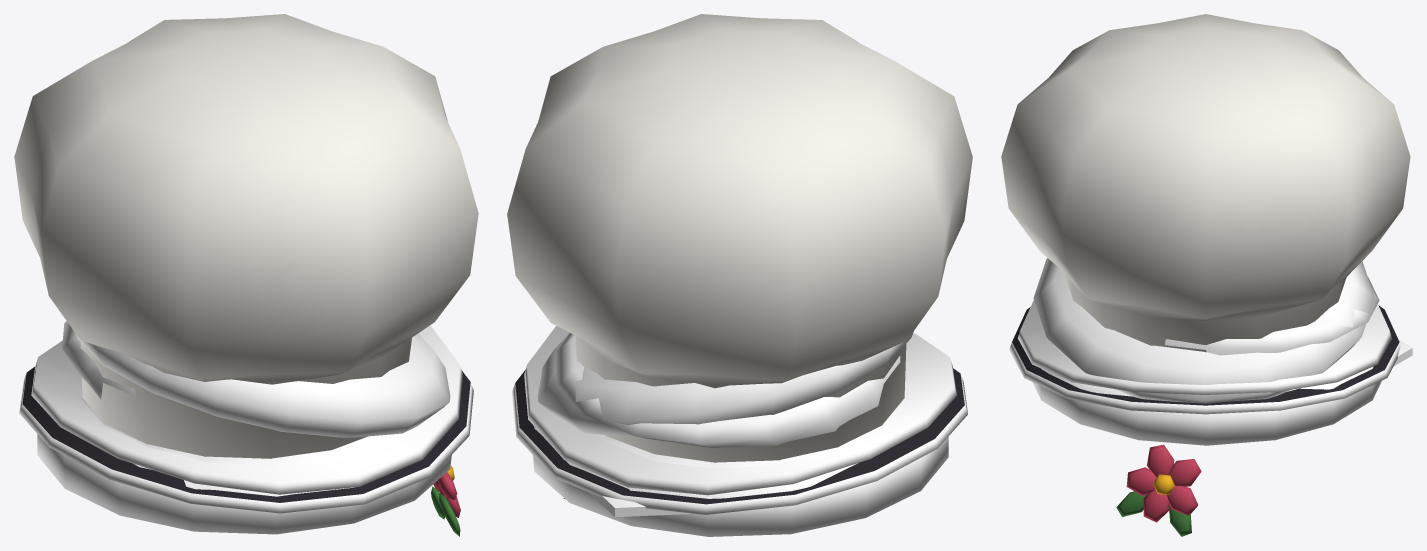
The model's file is hats.glb.
3 views of the same model, side by side, from view 1: azimuth 30°, elevation 25°; view 2: azimuth 150°, elevation 25°; view 3: azimuth 270°, elevation 25° (orthographic). The views are drawn at different scales.
Visible parts, largest first — view 1: hat_chef, hat_beret, hat_top, hat_beanie, hat_bowler, hat_flatcap, hat_flower; view 2: hat_chef, hat_top, hat_beanie, hat_beret, hat_bowler, hat_flatcap; view 3: hat_chef, hat_beret, hat_beanie, hat_top, hat_bowler, hat_flower, hat_flatcap.
Part boxes in pixels (x1=…): hat_chef: x1=14, y1=14, x2=478, y2=458; hat_beret: x1=76, y1=334, x2=450, y2=437; hat_top: x1=31, y1=325, x2=462, y2=494; hat_beanie: x1=37, y1=387, x2=451, y2=534; hat_bowler: x1=19, y1=366, x2=473, y2=513; hat_flatcap: x1=62, y1=321, x2=135, y2=398; hat_flower: x1=431, y1=465, x2=460, y2=536; hat_chef: x1=507, y1=14, x2=972, y2=462; hat_top: x1=524, y1=326, x2=956, y2=495; hat_beanie: x1=532, y1=388, x2=948, y2=536; hat_beret: x1=537, y1=331, x2=913, y2=437; hat_bowler: x1=512, y1=368, x2=967, y2=514; hat_flatcap: x1=555, y1=332, x2=900, y2=517; hat_chef: x1=1001, y1=14, x2=1410, y2=352; hat_beret: x1=1033, y1=258, x2=1374, y2=403; hat_beanie: x1=1032, y1=366, x2=1381, y2=445; hat_top: x1=1018, y1=300, x2=1391, y2=394; hat_bowler: x1=1009, y1=305, x2=1400, y2=414; hat_flower: x1=1116, y1=444, x2=1201, y2=536; hat_flatcap: x1=1165, y1=277, x2=1412, y2=366.
Size of the model in its own units: 0.3765 by 0.4354 by 0.3939.
1 material, 1 textured.
